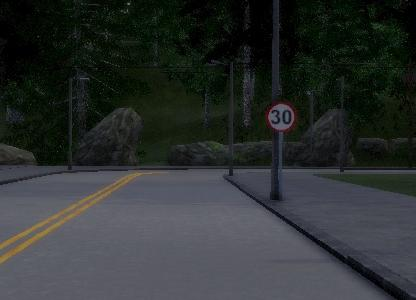Speed_30: (266, 102, 298, 134)
